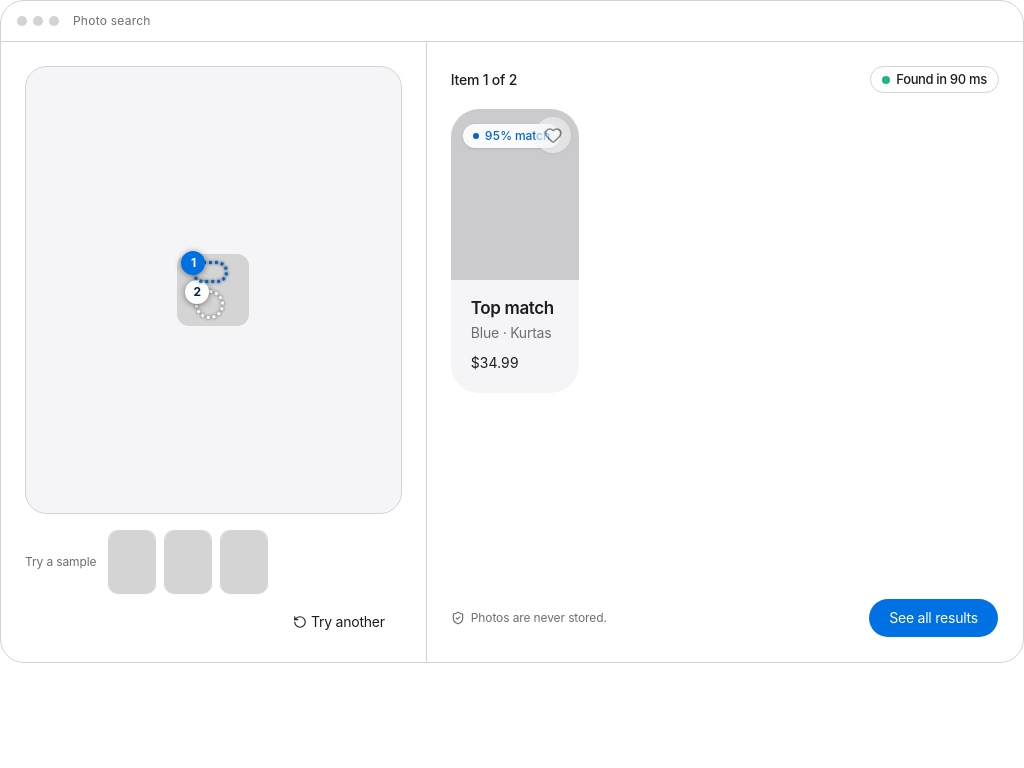
Test case: LiveSearch › starts over with another photo
The width and height of the screenshot is (1024, 768).
Earlier steps of the test are not shown.
Expected: the heading "Top match" is shown, [471,296,559,321]
Step 1. Click the button "Try another" → click(339, 622), box [276,606,402,638]
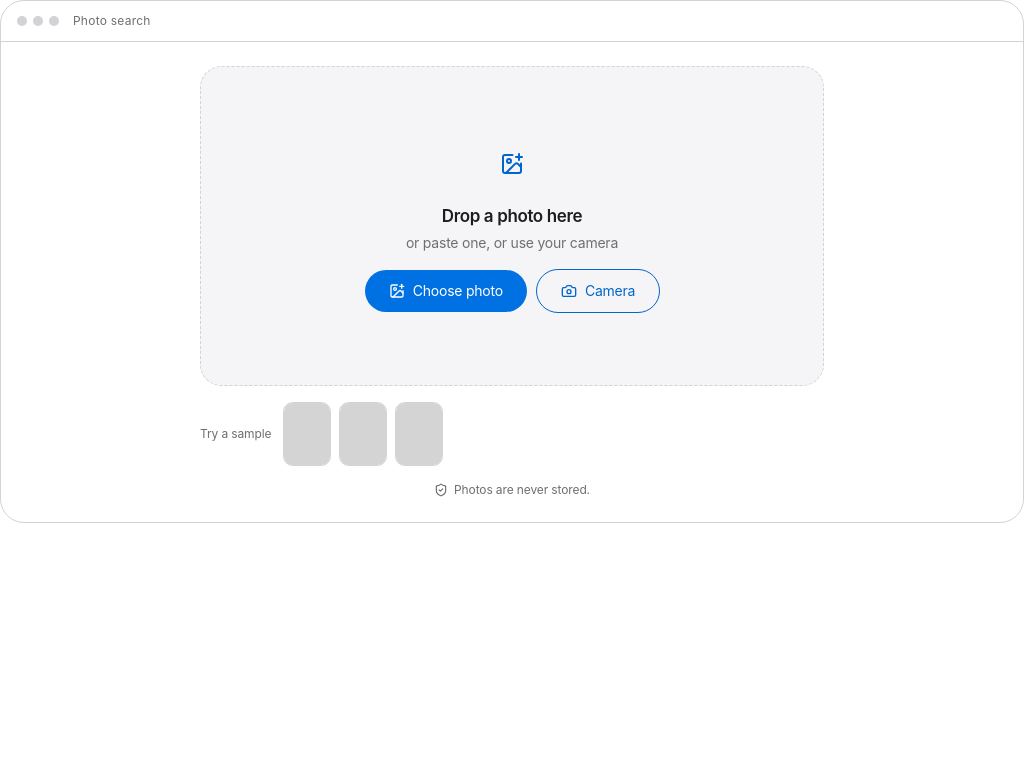
Now the text "Drop a photo here" is shown, box [442,206,582,226]
Now the link "Top match" is gone
